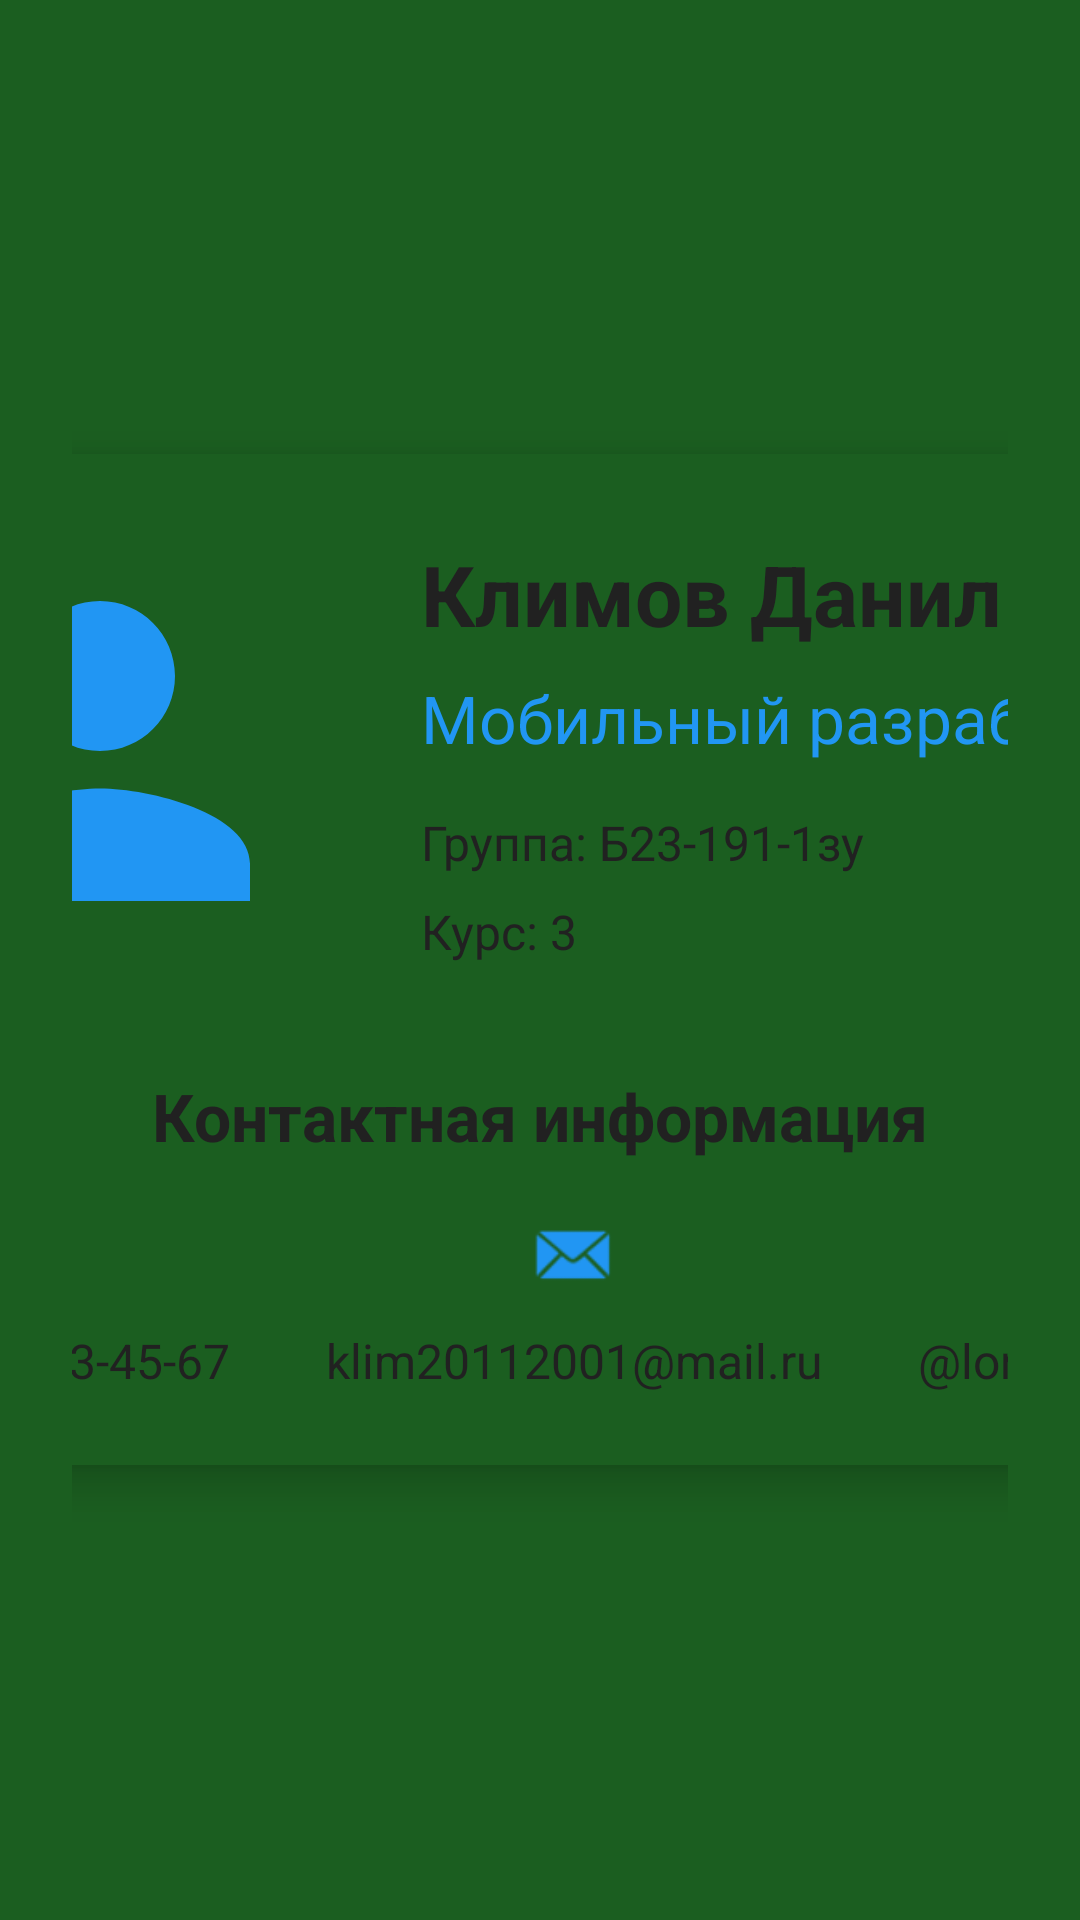

Where icons sit on this 1080x1920 app screen, as (x1, y1, x2, y2):
sym action email: (535, 1230, 610, 1279)
